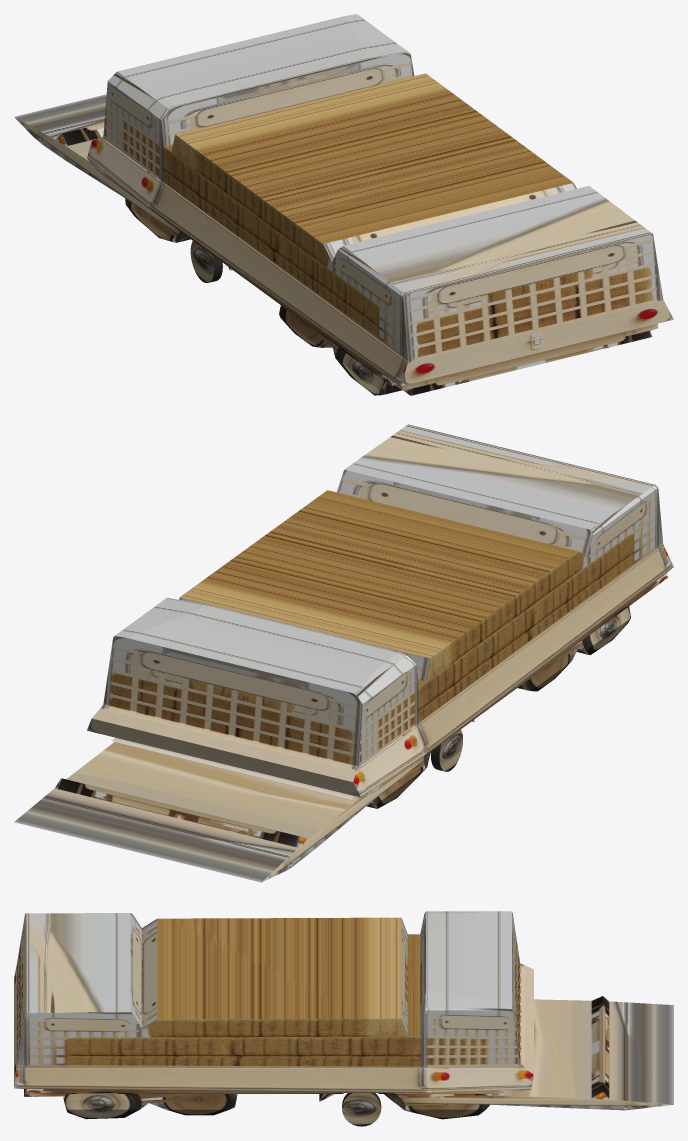
The model's file is hay_wagon.glb.
3 views of the same model, one above another, from view 1: azimuth 30°, elevation 25°; view 2: azimuth 150°, elevation 25°; view 3: azimuth 270°, elevation 25° (orthographic). The views are drawn at different scales.
Visible parts, largest first — view 1: hay_wagon, wheel_FL; view 2: hay_wagon, wheel_FL; view 3: hay_wagon, wheel_FR.
Boxes of the visible parts, <box> form: hay_wagon: <box>14,14,673,395</box>; wheel_FL: <box>190,241,222,282</box>; hay_wagon: <box>14,424,673,882</box>; wheel_FL: <box>430,729,462,771</box>; hay_wagon: <box>14,911,673,1119</box>; wheel_FR: <box>342,1093,381,1126</box>.
Size of the model in its own units: 2.39 by 1.19 by 5.97.
Materials: 3 (1 with a texture image).
